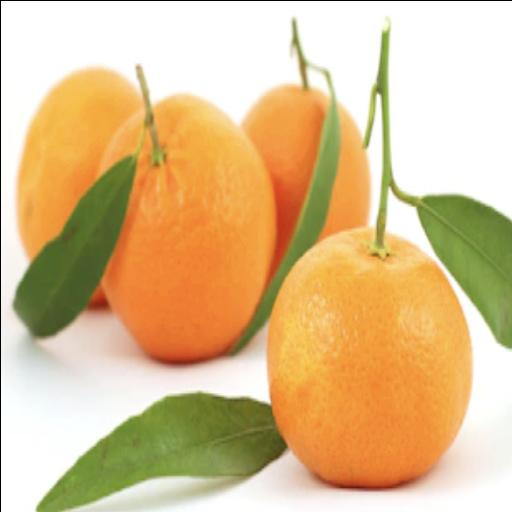orange: (266, 228, 471, 487), (102, 95, 274, 362), (16, 67, 141, 259), (242, 85, 327, 272)
